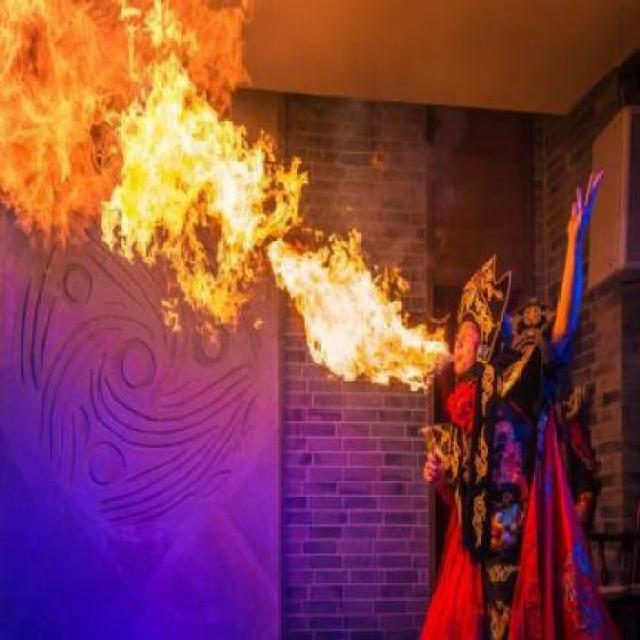Fire: (0, 0, 451, 394)
